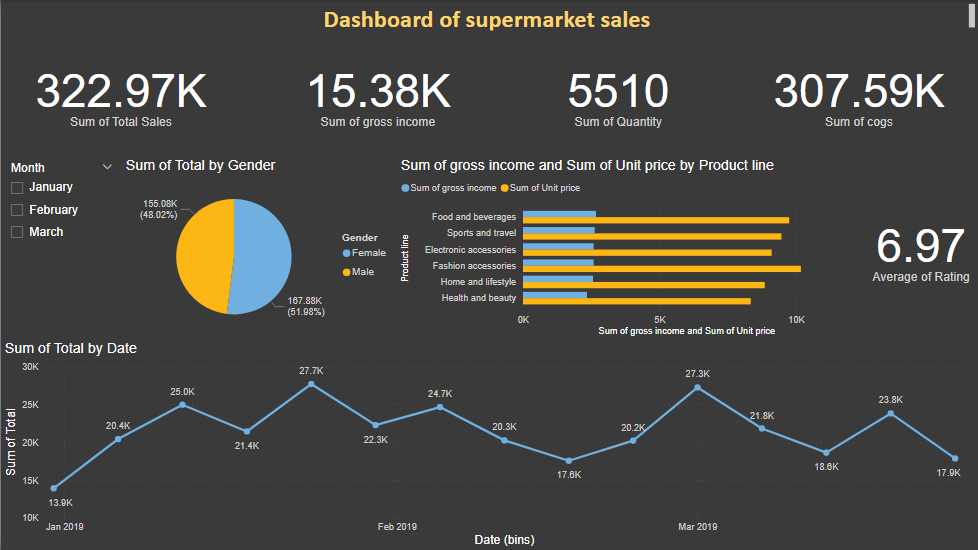

What the dashboard file says about the page in this screenshot:
{"tool":"powerbi","page":{"name":"Page 1","canvas":[1280,720],"ordinal":0},"visuals":[{"type":"card","fields":{"Values":["Sum(supermarket_sales - Sheet1.Total)"]},"box":[0,44.6,313.9,155.5],"z":0},{"type":"card","fields":{"Values":["Sum(supermarket_sales - Sheet1.gross income)"]},"box":[337,44.6,313.9,155.5],"z":1000},{"type":"card","fields":{"Values":["Sum(supermarket_sales - Sheet1.Quantity)"]},"box":[650.9,44.6,315.4,155.5],"z":2000},{"type":"slicer","fields":{"Values":["supermarket_sales - Sheet1.Date.Variation.Date Hierarchy.Month"]},"box":[0,204.9,158,240],"z":3000},{"type":"lineChart","title":"Sum of Total by Date","fields":{"Y":["Sum(supermarket_sales - Sheet1.Total)"],"Category":["supermarket_sales - Sheet1.Date (bins)"]},"box":[0,444.9,1280.5,275.1],"z":4000},{"type":"pieChart","fields":{"Category":["supermarket_sales - Sheet1.Gender"],"Y":["Sum(supermarket_sales - Sheet1.Total)"]},"box":[158,204.9,360,240],"z":5000},{"type":"card","fields":{"Values":["Sum(supermarket_sales - Sheet1.cogs)"]},"box":[966.2,44.6,313.9,155.5],"z":6000},{"type":"clusteredBarChart","fields":{"Category":["supermarket_sales - Sheet1.Product line"],"Y":["Sum(supermarket_sales - Sheet1.gross income)","Sum(supermarket_sales - Sheet1.Unit price)"]},"box":[518,204.9,610.2,240],"z":7000},{"type":"card","fields":{"Values":["Avg(supermarket_sales - Sheet1.Rating)"]},"box":[1128.3,204.9,152.2,240],"z":8000},{"type":"textbox","box":[0,0,1280.2,44.6],"z":9000}]}

Visuals, with their boxes in screenshot pixels (x1, y1, x2, y2), scaled from the page's 1280x720 canvas onto the 978x550 screenshot:
card - Sum(supermarket_sales - Sheet1.Total): rect(0, 34, 240, 153)
card - Sum(supermarket_sales - Sheet1.gross income): rect(257, 34, 497, 153)
card - Sum(supermarket_sales - Sheet1.Quantity): rect(497, 34, 738, 153)
slicer - supermarket_sales - Sheet1.Date.Variation.Date Hierarchy.Month: rect(0, 157, 121, 340)
"Sum of Total by Date" lineChart: rect(0, 340, 977, 549)
pieChart - supermarket_sales - Sheet1.Gender x Sum(supermarket_sales - Sheet1.Total): rect(121, 157, 396, 340)
card - Sum(supermarket_sales - Sheet1.cogs): rect(738, 34, 977, 153)
clusteredBarChart - supermarket_sales - Sheet1.Product line x Sum(supermarket_sales - Sheet1.gross income): rect(396, 157, 862, 340)
card - Avg(supermarket_sales - Sheet1.Rating): rect(862, 157, 977, 340)
textbox: rect(0, 0, 977, 34)
